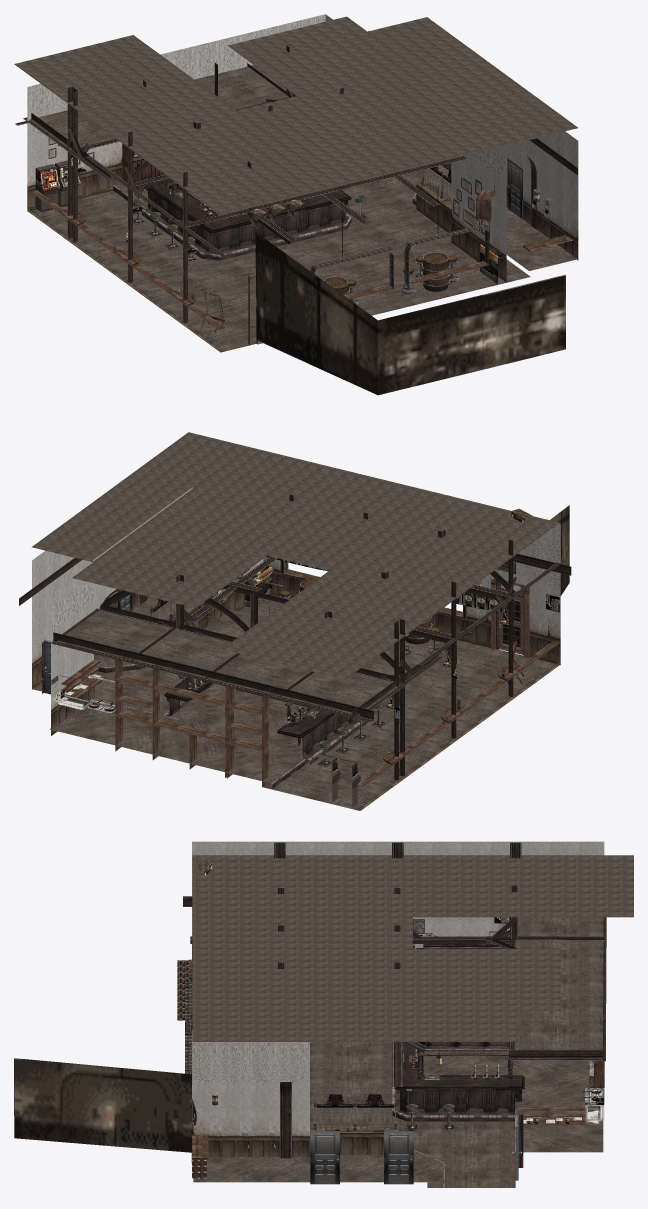
The model's file is apt_pub.glb.
3 renders of one model, top to bottom at view 1: azimuth 30°, elevation 25°; view 2: azimuth 150°, elevation 25°; view 3: azimuth 270°, elevation 25°, orthographic. The views are drawn at different scales.
Parts seen in each view (by area): view 1: pub; view 2: pub; view 3: pub.
Part boxes in pixels (x1,y1,x2,y2): pub: (14, 14, 578, 395); pub: (19, 432, 571, 810); pub: (14, 841, 633, 1187).
Bounding box in the file's own units: 9.15 × 3.48 × 12.04.
28 materials, 28 textured.
